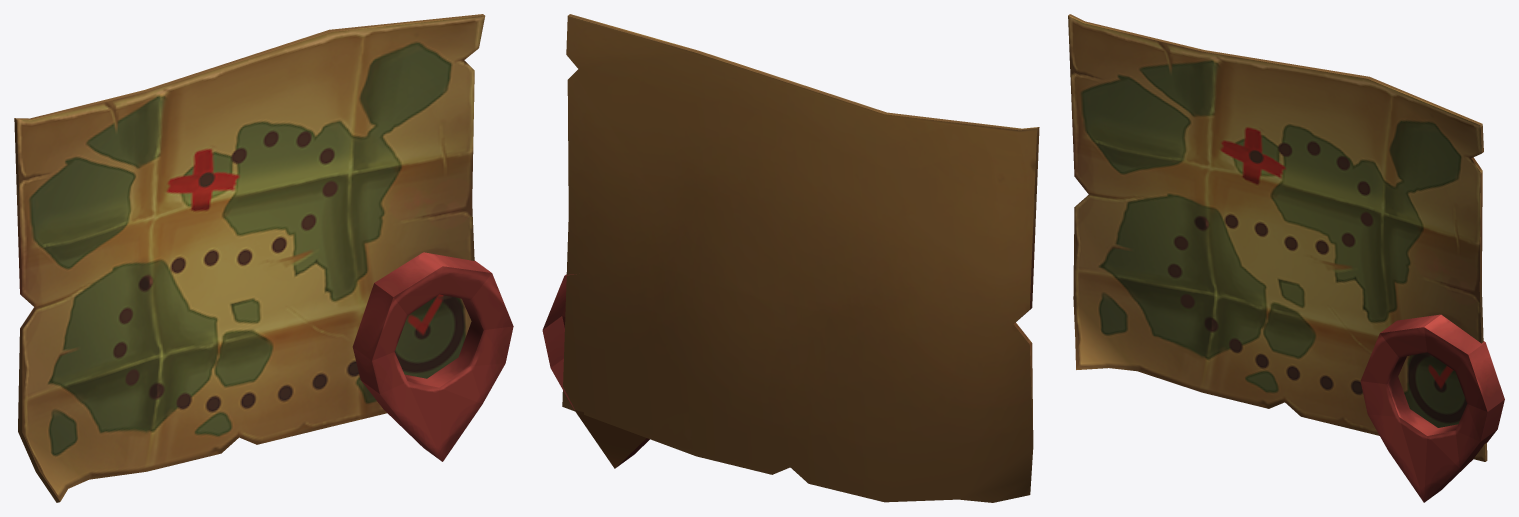
File: 53_Map.FBX
3 renders of one model, left to right at view 1: azimuth 30°, elevation 25°; view 2: azimuth 150°, elevation 25°; view 3: azimuth 330°, elevation 25°, orthographic. The views are drawn at different scales.
Visible parts, largest first — view 1: Box003; view 2: Box003; view 3: Box003.
Boxes of the visible parts, <box> form: Box003: <box>14,14,513,502</box>; Box003: <box>542,14,1039,502</box>; Box003: <box>1068,14,1504,502</box>.
Size of the model in its own units: 52.75 by 45.38 by 5.69.
